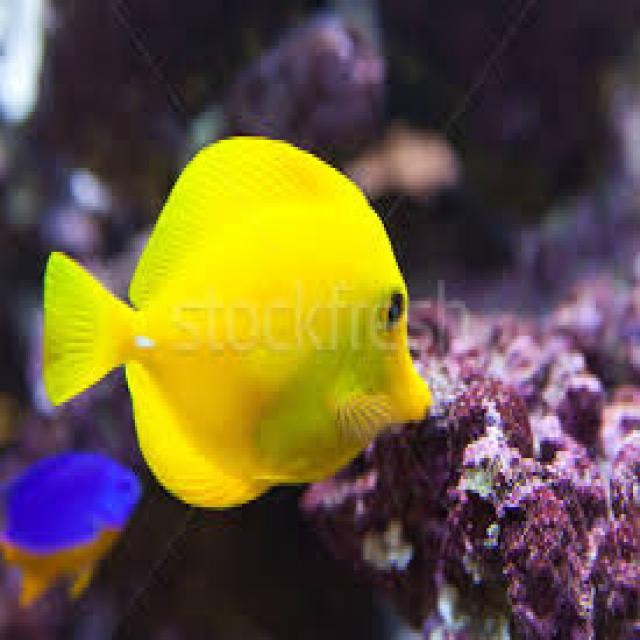YellowTang: (34, 104, 449, 540)
